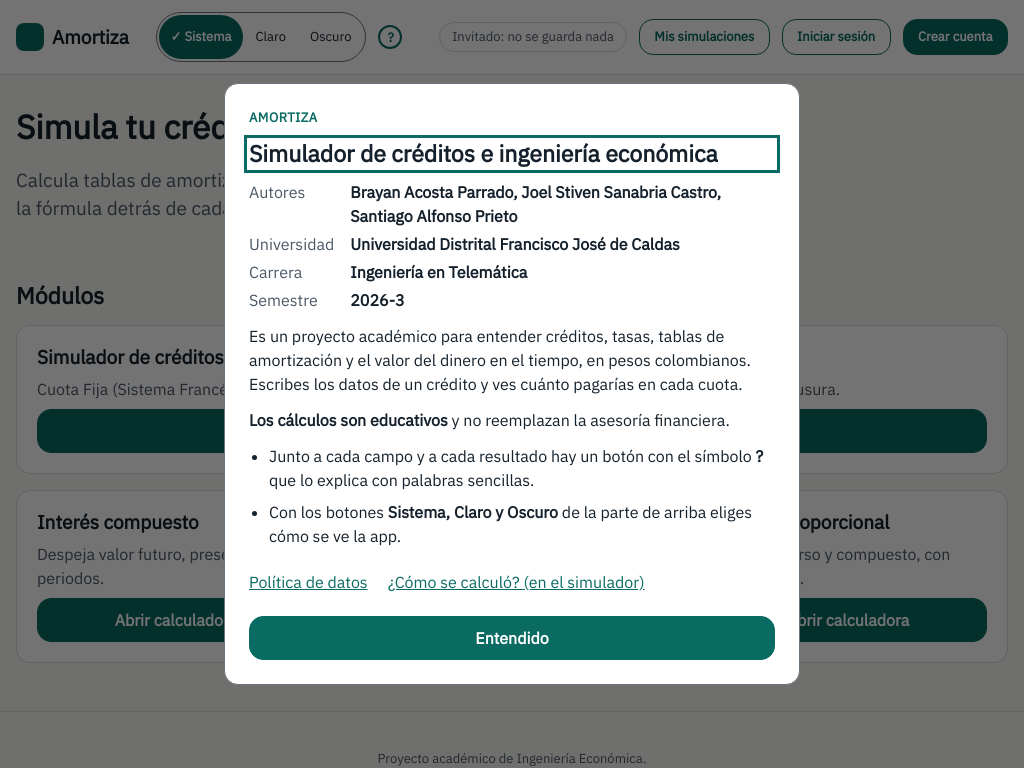
Scenario: Ventana de bienvenida › enlaza al simulador, donde está «¿Cómo se calculó?»
Click the link "¿Cómo se calculó? (en el simulador)" at (516, 582), box x1=388 y1=572 x2=644 y2=592
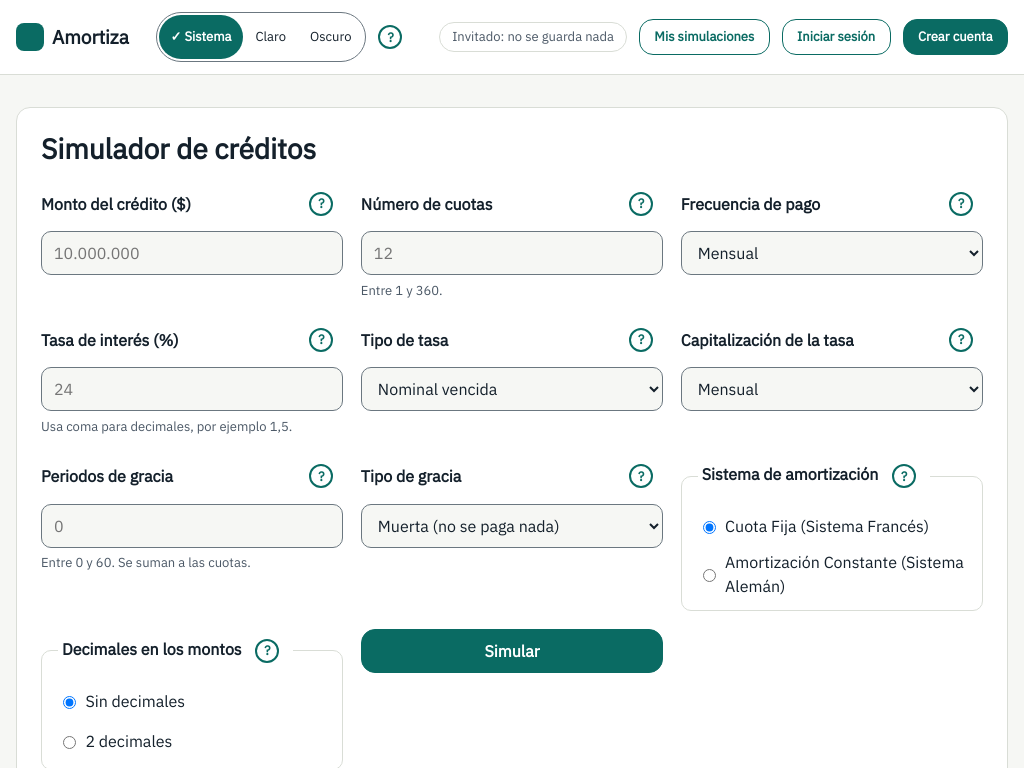
Check: the dialog is gone
